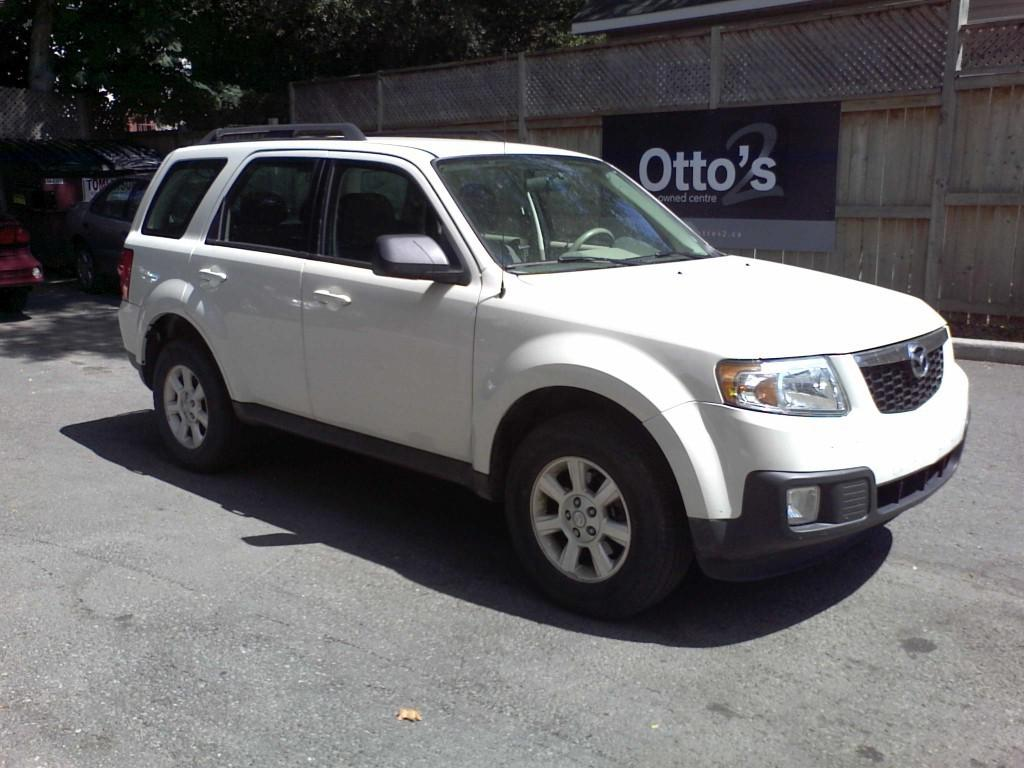Car: (99, 114, 1018, 646)
